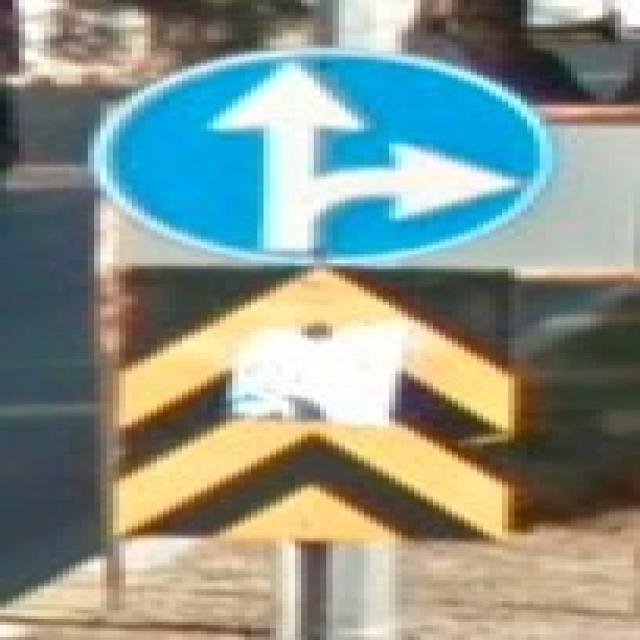Straight or Right: (86, 53, 556, 260)
